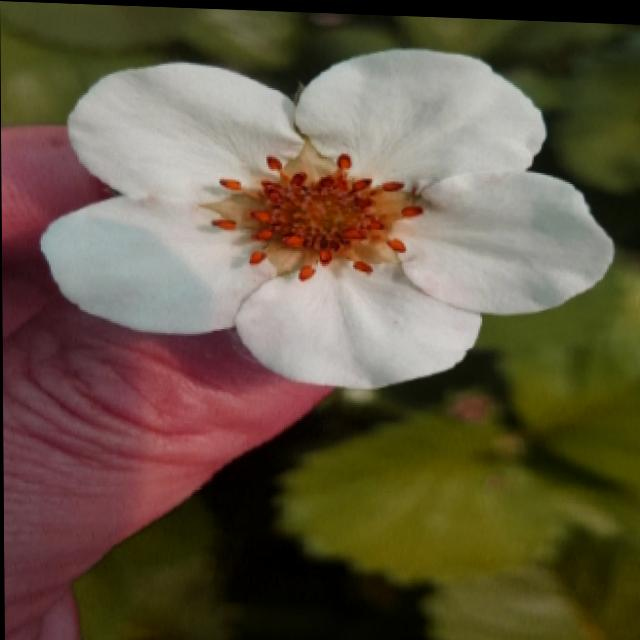Blossom Blight: (193, 137, 425, 283)
